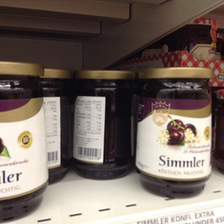jam: (135, 66, 215, 198), (1, 60, 48, 221), (72, 70, 135, 179)
